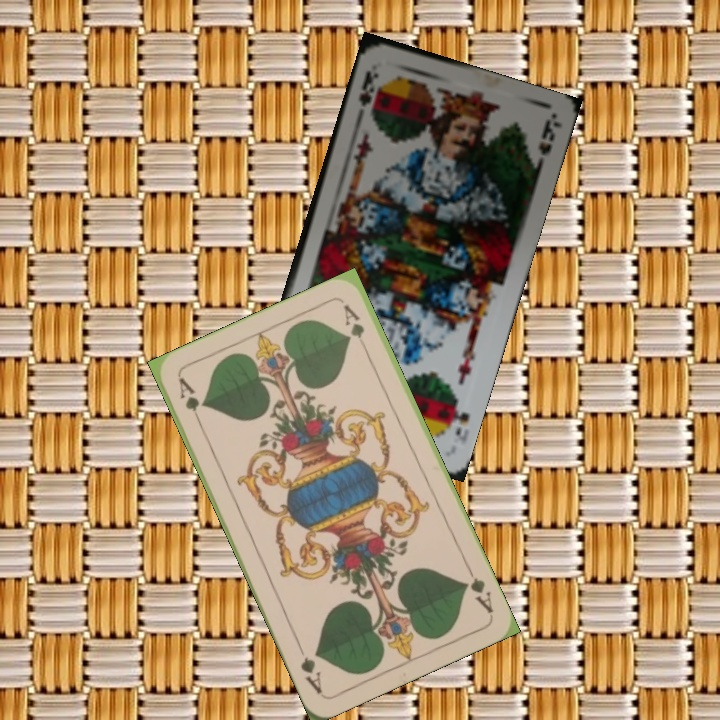GA: (459, 561, 496, 616), (174, 373, 205, 430)
SK: (440, 394, 472, 440), (355, 66, 382, 118)
